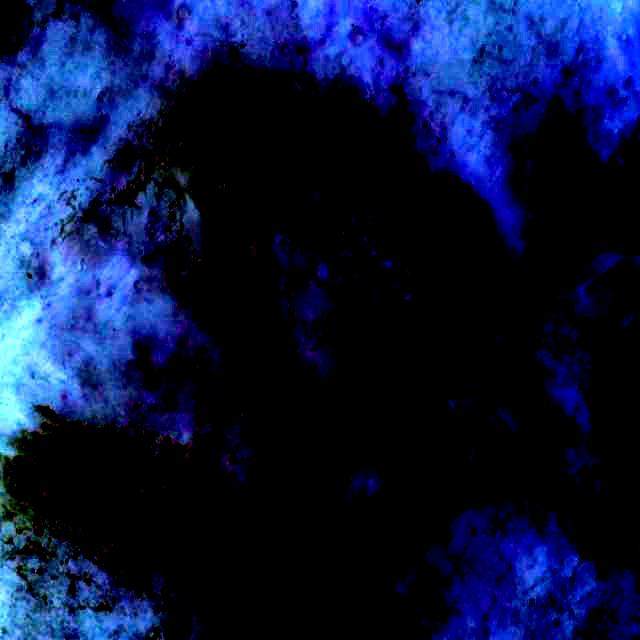AKIEC: (190, 73, 491, 451), (4, 408, 214, 560)
